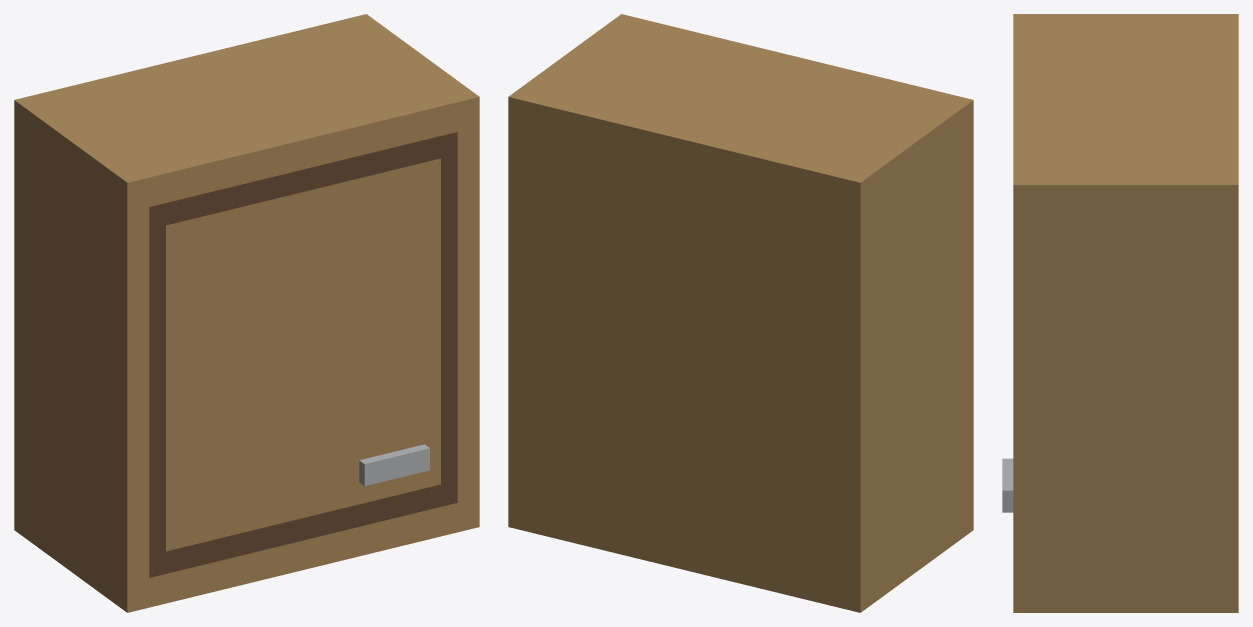
Rendered from wall_unit.glb.
3 views of the same model, side by side, from view 1: azimuth 30°, elevation 25°; view 2: azimuth 150°, elevation 25°; view 3: azimuth 270°, elevation 25° (orthographic).
Parts seen in each view (by area): view 1: wall_unit; view 2: wall_unit; view 3: wall_unit.
Boxes of the visible parts, box(x1,y1,x2,y2) form: wall_unit: box(14, 14, 479, 612); wall_unit: box(508, 14, 973, 612); wall_unit: box(1002, 14, 1238, 612).
Size of the model in its own units: 0.6 by 0.7 by 0.35.
